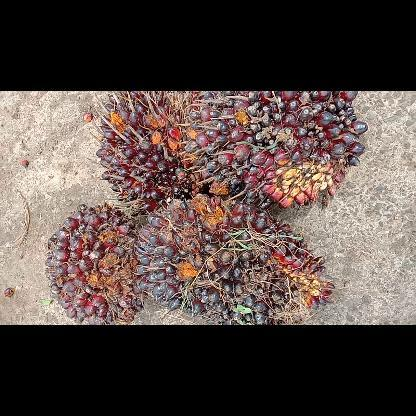Kurang masak: (135, 194, 337, 324), (182, 91, 374, 213), (93, 91, 209, 216), (42, 200, 150, 324)
